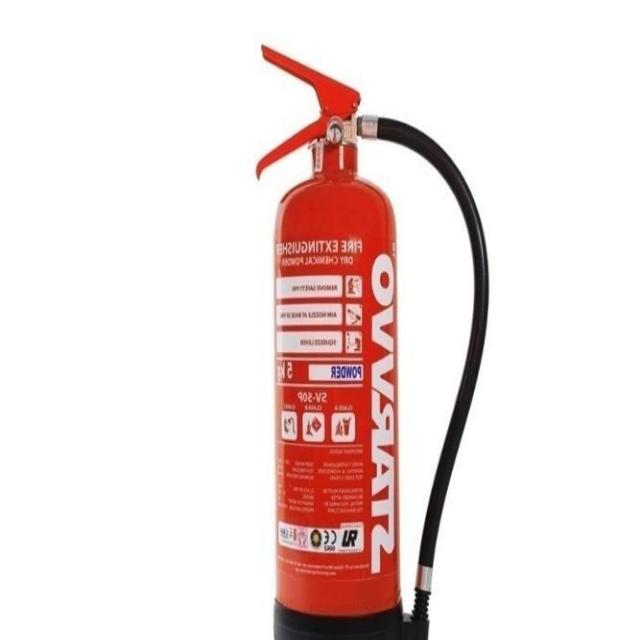fire_extinguisher: (251, 41, 496, 639)
